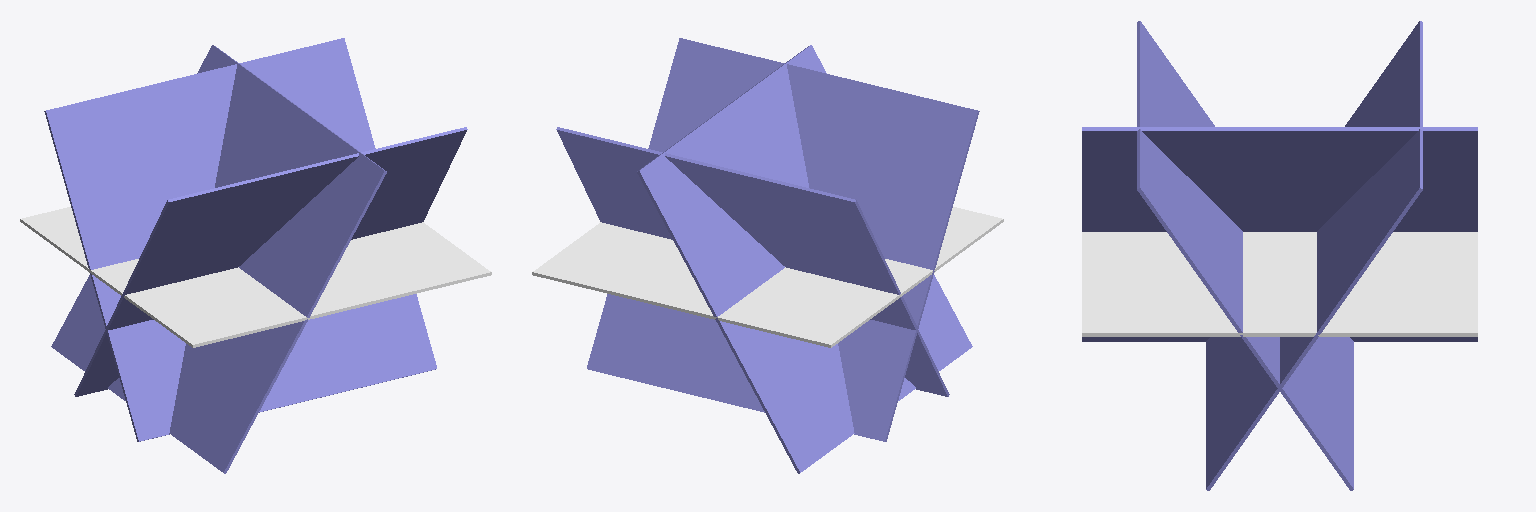
URDF robot description (ground_skeleton):
<?xml version="1.0"?>
<robot name="ground_skeleton">
<!-- Setup material colours for simulation -->
<material name="white">
  <color rgba="1 1 1 1"/>
</material>
<material name="green">
  <color rgba="0 1 0 1"/>
</material>
<material name="blue">
  <color rgba="0.6 0.6 0.9 1"/>
</material>
<material name="red">
  <color rgba="1 0 0 1"/>
</material>
<material name="black">
  <color rgba="0 0 0 0.9"/>
</material>
<material name="darkgrey">
  <color rgba="0.1 0.1 0.1 1"/>
</material>
<material name="midgrey">
  <color rgba="0.5 0.5 0.5 1"/>
</material>
<!-- =================================================================================== -->
<!-- |    LINKS                                                                        | -->
<!-- =================================================================================== -->
    <link name="world" />
    <link name="world_frame">
        <inertial>
            <mass value="0.000000001" />
            <origin xyz="0 0 0" rpy="0 0 0" />
            <inertia ixx="0.000000001" ixy="0.000000001" ixz="0.000000001" iyy="1.0" iyz="0" izz="1.0" />
        </inertial>
    </link>
    <link name="ground_link">
         <collision>
            <origin xyz="0 0 -0.025" rpy="0 -0 0" />
            <geometry>
                <box size="50.0 50.0 0.05" />
            </geometry>
        </collision>
         <visual name="visual">
            <origin xyz = "1.2 1.0 -0.1" rpy="0. 0 0" />
            <material name="blue"/>
            <geometry>
                <box size="5.0 5.0 0.05" />
            </geometry>
        </visual>
        <inertial>
            <mass value="1.0" />
            <origin xyz="0 0 0" rpy="0 0 0" />
            <inertia ixx="1.0" ixy="0" ixz="0" iyy="1.0" iyz="0" izz="1.0" />
        </inertial>
    </link>
    <link name="ground_link2">
         <collision>
            <origin xyz="0 0 -0.025" rpy="0 -0 0" />
            <geometry>
                <box size="5000.0 500.0 0.05" />
            </geometry>
        </collision>
         <visual name="visual">
            <origin xyz = "0.0 0.0 -0.1" rpy="0. 0 0" />
            <material name="blue"/>
            <geometry>
                <box size="5.0 5.0 0.05" />
            </geometry>
        </visual>
        <inertial>
            <mass value="1.0" />
            <origin xyz="0 0 0" rpy="0 0 0" />
            <inertia ixx="1.0" ixy="0" ixz="0" iyy="1.0" iyz="0" izz="1.0" />
        </inertial>
    </link>
    <link name="ground_link3">
         <collision>
            <origin xyz="0 0 -0.025" rpy="0 -0 0" />
            <geometry>
                <box size="5000.0 500.0 0.05" />
            </geometry>
        </collision>
         <visual name="visual">
            <origin xyz = "-1.2 1.0 -0.1" rpy="0. 0 0" />
            <material name="blue"/>
            <geometry>
                <box size="5.0 5.0 0.05" />
            </geometry>
        </visual>
        <inertial>
            <mass value="1.0" />
            <origin xyz="0 0 0" rpy="0 0 0" />
            <inertia ixx="1.0" ixy="0" ixz="0" iyy="1.0" iyz="0" izz="1.0" />
        </inertial>
    </link>
    <link name="flat_link">
         <visual>
            <origin xyz = "-1.0 1.0 0" rpy="0. 0 0" />
            <material name="white"/>
            <geometry>
                <box size="5.0 5.0 0.05" />
            </geometry>
        </visual>
        <inertial>
            <mass value="1.0" />
            <origin xyz="0 0 0" rpy="0 0 0" />
            <inertia ixx="1.0" ixy="0" ixz="0" iyy="1.0" iyz="0" izz="1.0" />
        </inertial>
    </link>
    <joint name="ground_joint1" type="fixed">
        <origin xyz="2.7 -2 0.0" rpy="0 1 1.5708" />
        <parent link="world_frame" />
        <child link="ground_link" />
    </joint>
    <joint name="ground_joint2" type="fixed">
        <origin xyz="1.0 -1 -1" rpy="0 -1 0" />
        <parent link="world_frame" />
        <child link="ground_link2" />
    </joint>
    <joint name="ground_joint3" type="fixed">
        <origin xyz="2.7 0 0.0" rpy="0 -1 1.5708" />
        <parent link="world_frame" />
        <child link="ground_link3" />
    </joint>
    <joint name="frame_joint" type="fixed">
        <origin xyz="0 -0.1 0" rpy="0 0 0" />
        <parent link="world" />
        <child link="world_frame" />
    </joint>
    <joint name="flat_joint" type="fixed">
        <origin xyz="2.7 -2 -1" rpy="0 0 0" />
        <parent link="world_frame" />
        <child link="flat_link" />
    </joint>
</robot>

--- Render facts (derived) ---
The picture shows the robot from 3 angles, left to right: view 1: azimuth 30°, elevation 25°; view 2: azimuth 150°, elevation 25°; view 3: azimuth 270°, elevation 25°; orthographic projection.
Model ground_skeleton with 6 links and 5 joints (5 fixed), rooted at world, posed all joints at 0.
Links seen in each view (by area): view 1: ground_link3, ground_link2, ground_link, flat_link; view 2: ground_link, ground_link2, ground_link3, flat_link; view 3: flat_link, ground_link2, ground_link3, ground_link.
Boxes of the visible links, <box> form: ground_link3: <box>44,38,436,441</box>; ground_link2: <box>51,45,386,473</box>; ground_link: <box>74,127,467,396</box>; flat_link: <box>20,207,491,347</box>; ground_link: <box>587,38,979,441</box>; ground_link2: <box>637,45,972,473</box>; ground_link3: <box>556,127,949,396</box>; flat_link: <box>532,207,1003,347</box>; flat_link: <box>1082,232,1477,336</box>; ground_link2: <box>1082,127,1477,341</box>; ground_link3: <box>1206,21,1422,490</box>; ground_link: <box>1137,21,1353,490</box>.
Size in the robot's own frame: 5 by 5 by 4.24 metres.
Geometry: primitives only (box / cylinder / sphere), no mesh files.